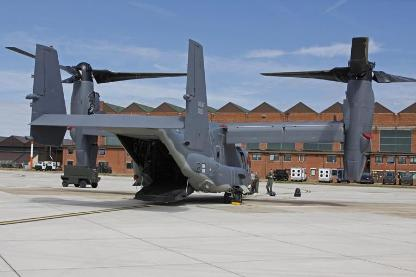Tornado: (5, 36, 415, 203)
